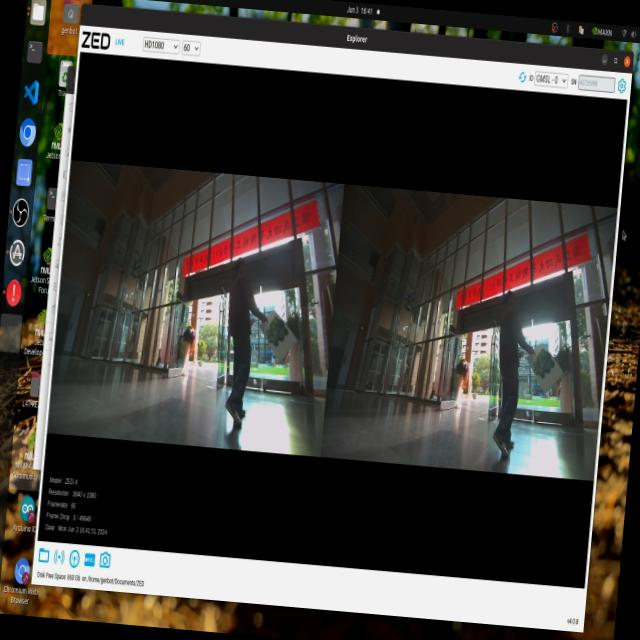green: (528, 346, 565, 392), (264, 302, 293, 358)
